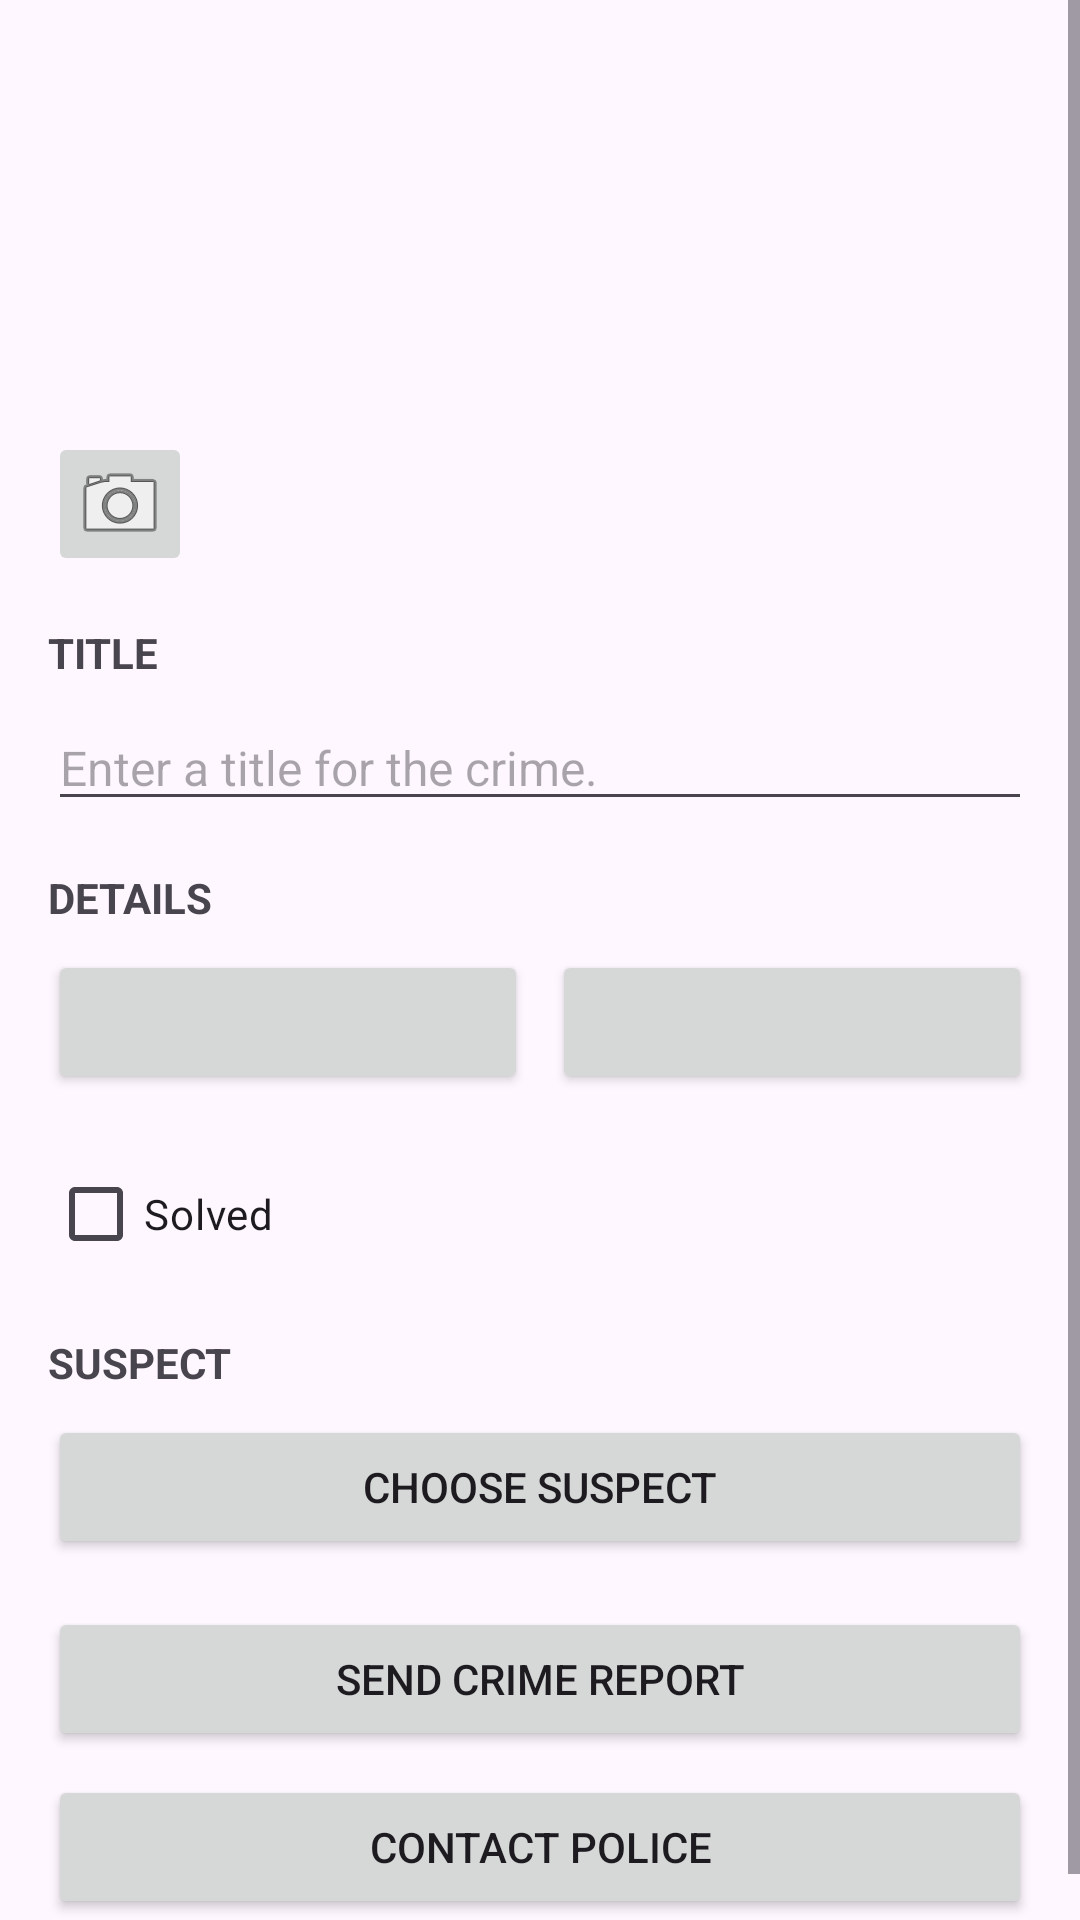

Icon bounding boxes for this 1080 x 1920 phone screenshot, format (x1, y1, x2, y2):
Take Photo: (60, 450, 180, 558)
